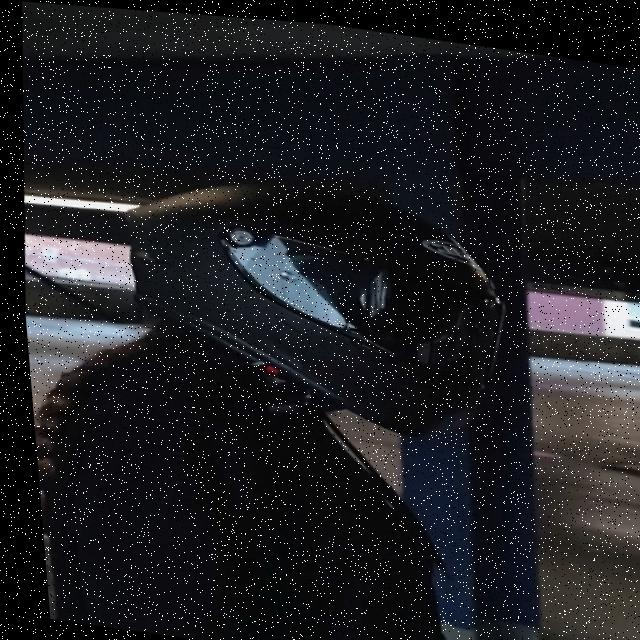helmet: (95, 149, 528, 449)
